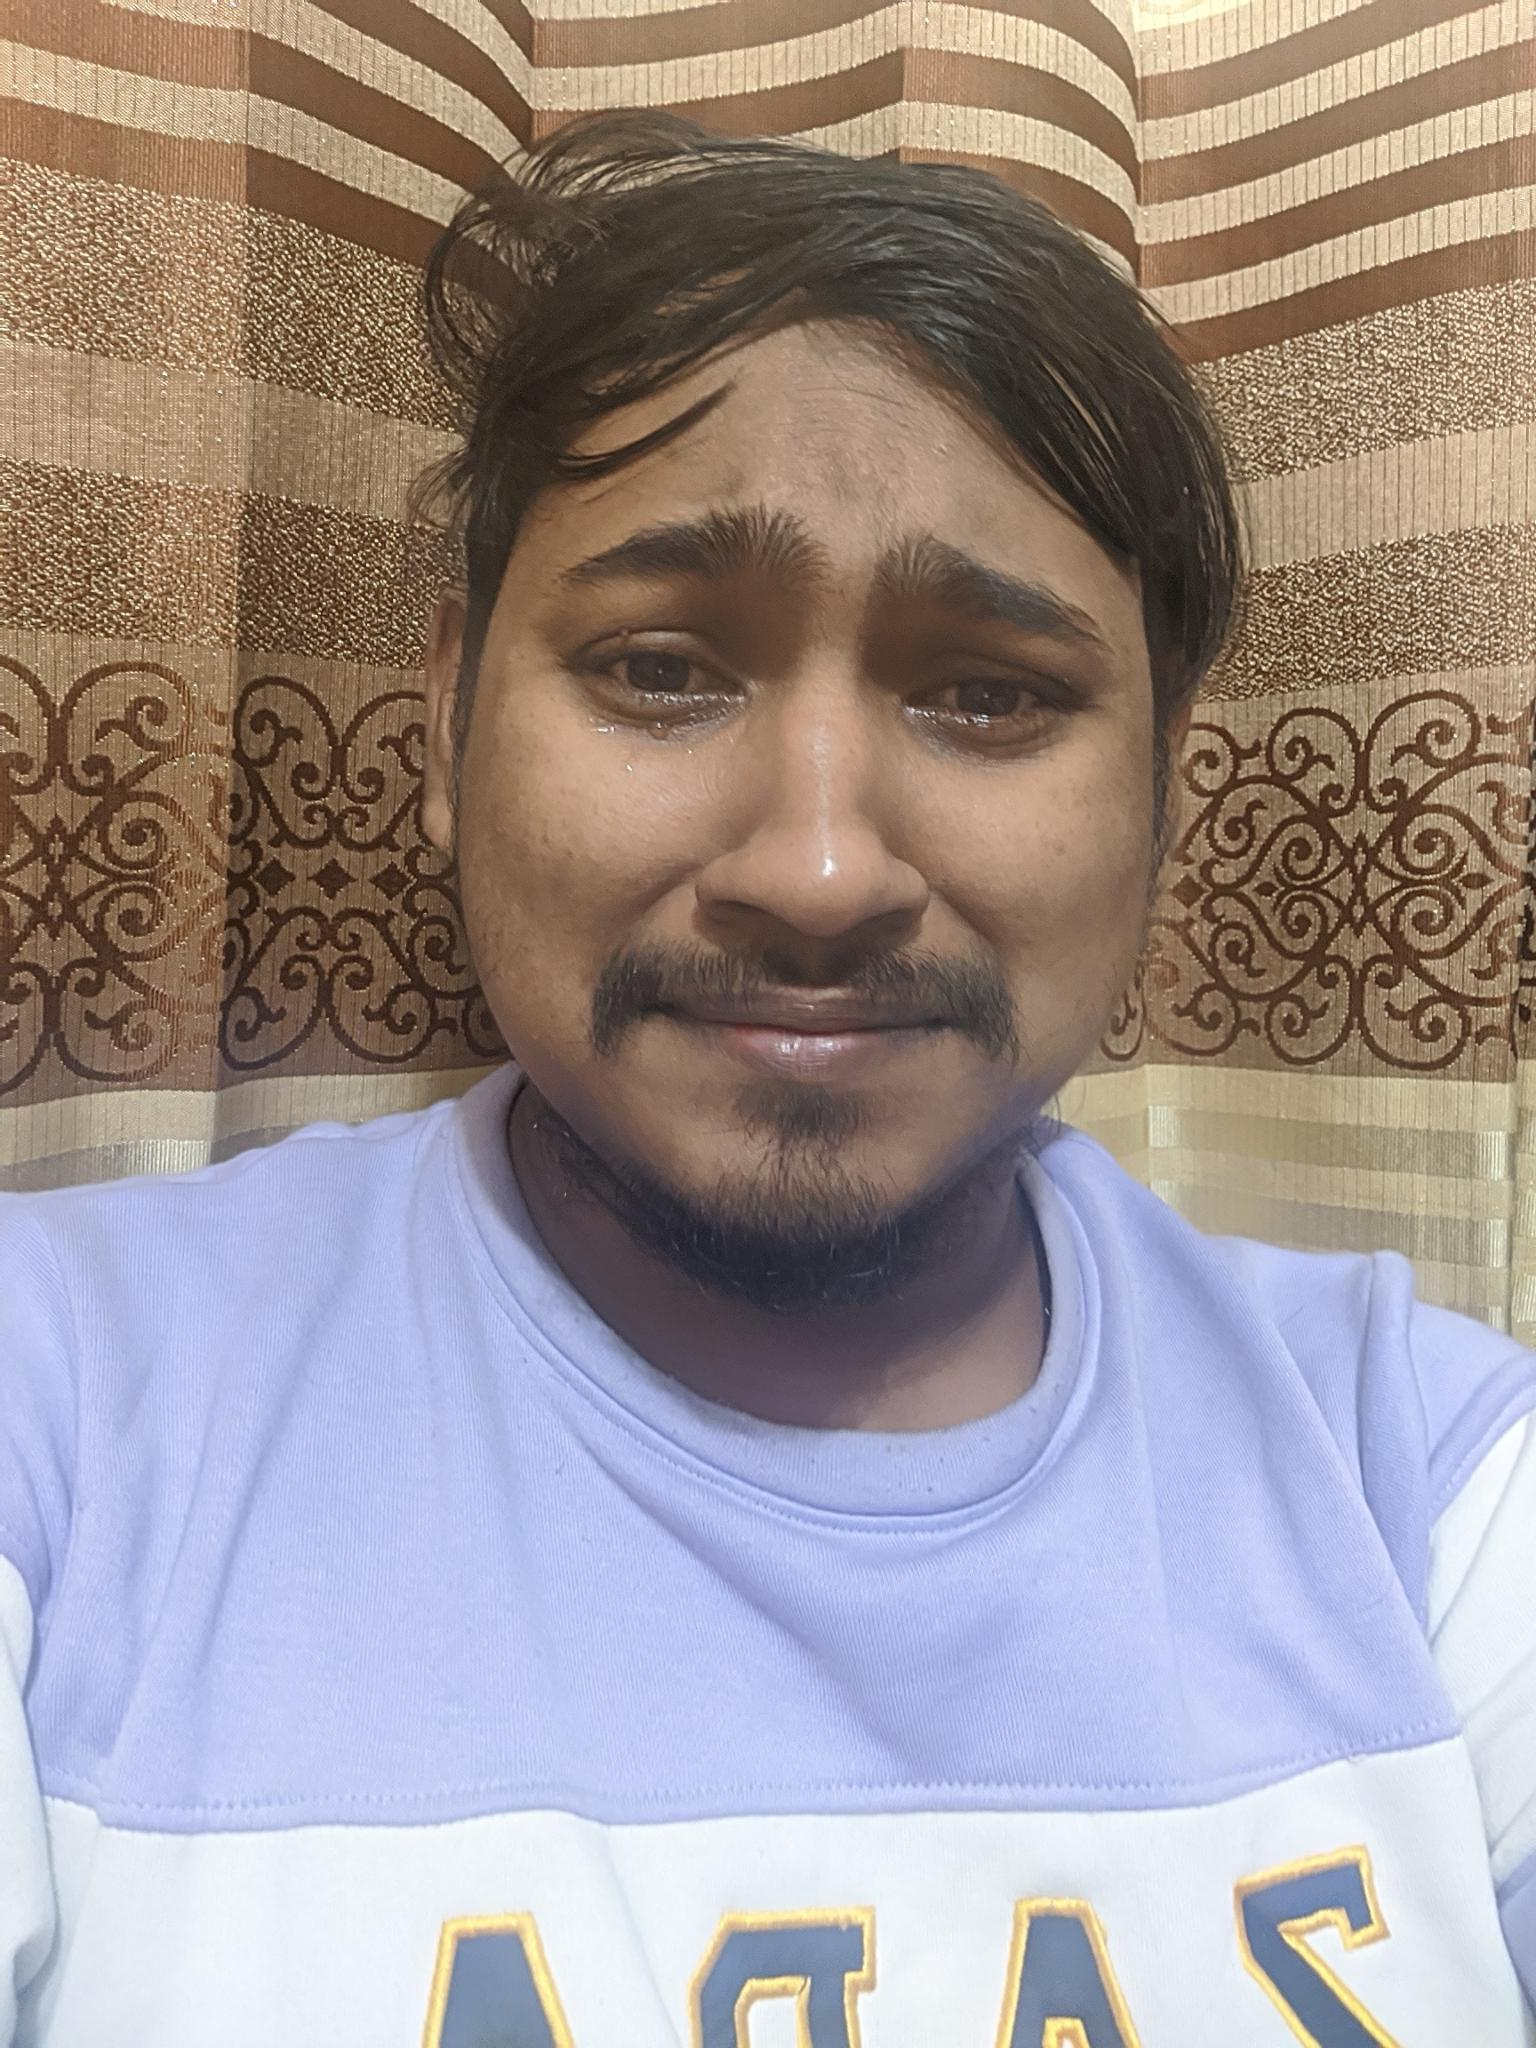Sad: (521, 414, 1133, 1266)
